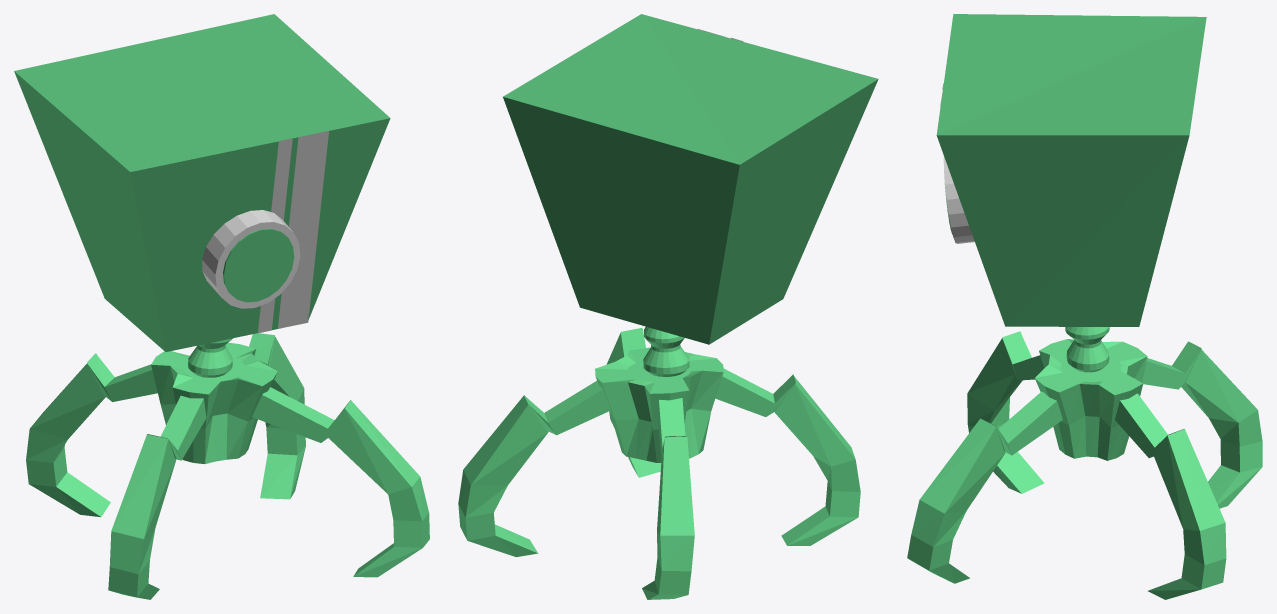
Rendered from assistant.glb.
3 views of the same model, side by side, from view 1: azimuth 30°, elevation 25°; view 2: azimuth 150°, elevation 25°; view 3: azimuth 270°, elevation 25° (orthographic). The views are drawn at different scales.
Parts seen in each view (by area): view 1: Plane, Cylinder 3, Cube 2, Cube 3, Cube 4, Cube 1, Cube 1 2, Cube 1 4, Cube 1 3, Cylinder 2, Cube 1 1; view 2: Plane, Cylinder 3, Cube 1, Cube 3, Cube 4, Cube 1 1, Cube 1 3, Cylinder 2, Cube 1 4, Cube 2; view 3: Plane, Cylinder 3, Cube 2, Cube 1, Cube 4, Cube 3, Cube 1 2, Cube 1 1, Cylinder 2, Cube 1 4, Cube 1 3.
Boxes of the visible parts, <box> form: Plane: <box>14,14,390,351</box>; Cylinder 3: <box>151,342,277,463</box>; Cube 2: <box>328,400,429,577</box>; Cube 3: <box>108,434,175,599</box>; Cube 4: <box>26,354,110,517</box>; Cube 1: <box>260,335,305,499</box>; Cube 1 2: <box>252,387,350,442</box>; Cube 1 4: <box>87,353,157,401</box>; Cube 1 3: <box>147,395,206,460</box>; Cylinder 2: <box>188,338,232,377</box>; Cube 1 1: <box>249,333,274,365</box>; Plane: <box>503,14,878,344</box>; Cylinder 3: <box>595,347,723,462</box>; Cube 1: <box>458,395,548,557</box>; Cube 3: <box>774,376,860,545</box>; Cube 4: <box>642,436,694,599</box>; Cube 1 1: <box>524,381,610,435</box>; Cube 1 3: <box>715,368,795,416</box>; Cylinder 2: <box>643,326,689,376</box>; Cube 1 4: <box>658,398,686,457</box>; Cube 2: <box>606,328,661,477</box>; Plane: <box>936,14,1206,326</box>; Cylinder 3: <box>1035,339,1147,460</box>; Cube 2: <box>907,419,1005,583</box>; Cube 1: <box>1148,429,1226,599</box>; Cube 4: <box>1181,345,1262,508</box>; Cube 3: <box>967,332,1044,493</box>; Cube 1 2: <box>980,391,1062,455</box>; Cube 1 1: <box>1115,393,1183,457</box>; Cylinder 2: <box>1065,327,1109,372</box>; Cube 1 4: <box>1142,341,1201,389</box>; Cube 1 3: <box>1002,331,1044,380</box>.
Size of the model in its own units: 2.56 by 3.8 by 2.65.
